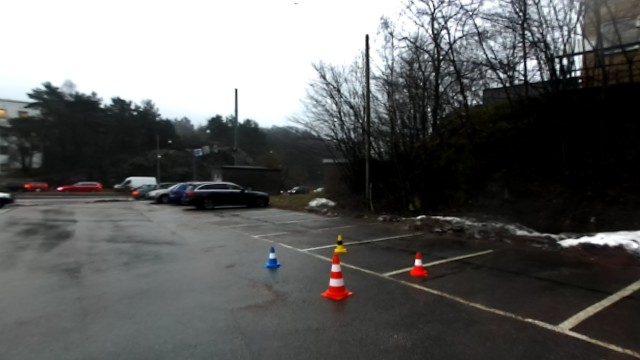blue: (264, 247, 281, 270)
orange: (407, 251, 427, 280)
orange2: (317, 251, 352, 302)
yellow: (332, 235, 348, 255)
